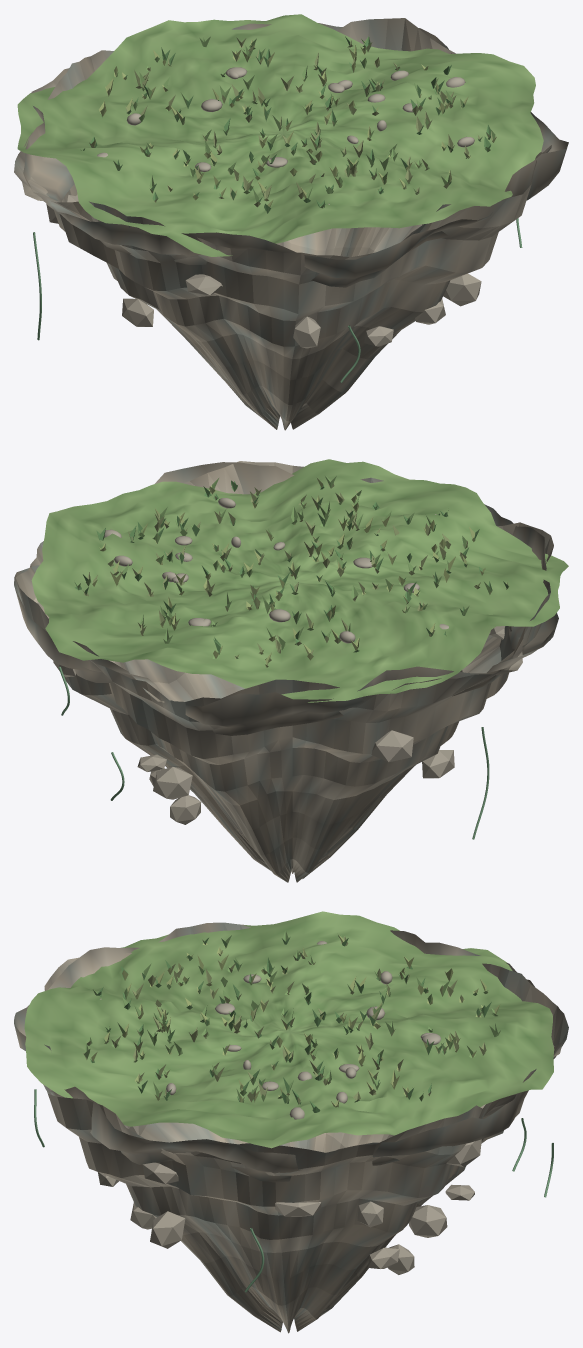
File: veyra_floating_island_01.glb
3 renders of one model, top to bottom at view 1: azimuth 30°, elevation 25°; view 2: azimuth 150°, elevation 25°; view 3: azimuth 270°, elevation 25°, orthographic.
Visible parts, largest first — view 1: Veyra Floating Island 01; view 2: Veyra Floating Island 01; view 3: Veyra Floating Island 01.
Part boxes in pixels (x1,y1,x2,y2): Veyra Floating Island 01: [14, 14, 568, 430]; Veyra Floating Island 01: [14, 459, 568, 882]; Veyra Floating Island 01: [14, 911, 568, 1333].
Bounding box in the file's own units: 2.14 × 1.33 × 2.1.
